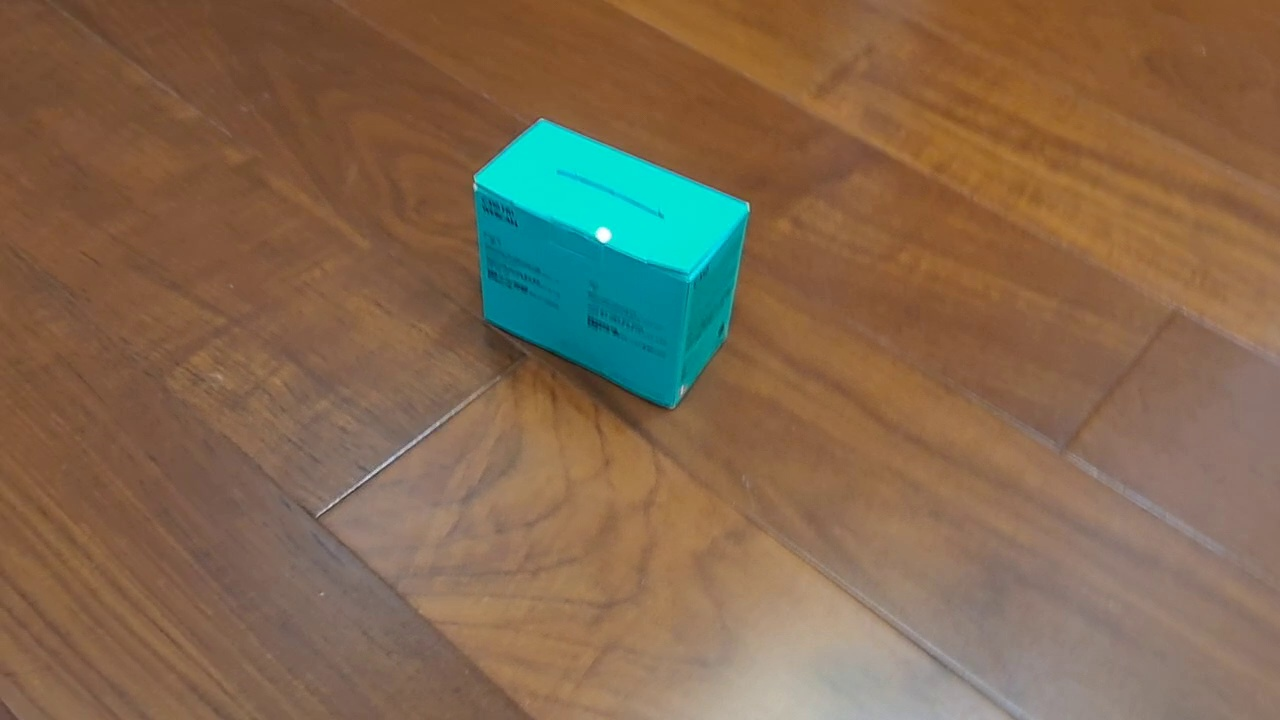webcam: (471, 115, 752, 412)
